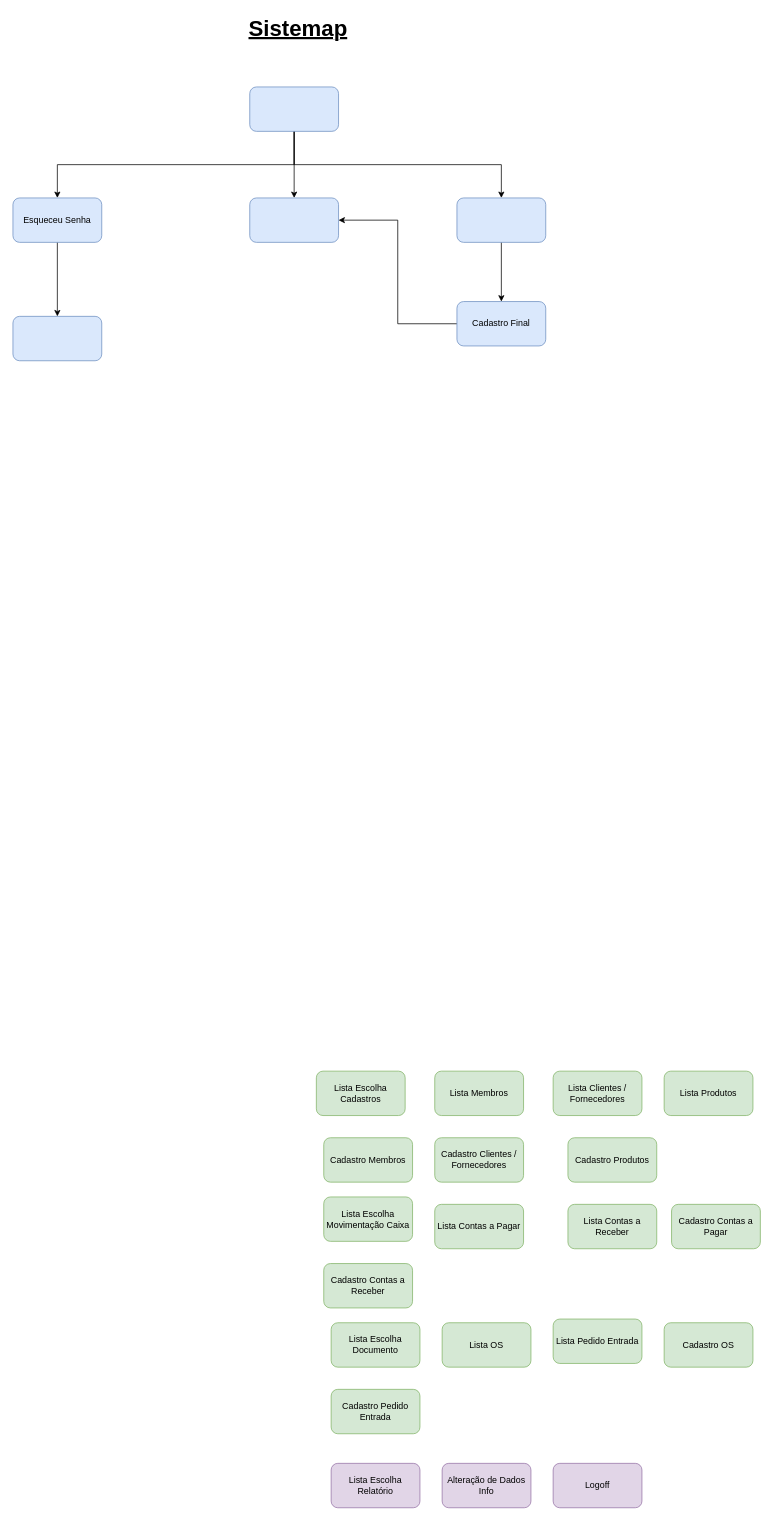
The diagram is 773 pixels wide and 1521 high, and some of its shapes have lost their labels. Each missing label, with the centre of its shape:
"Alteração Senha" goes at [57,338].
"Cadastro Inicial" goes at [501,219].
"Index" goes at [294,108].
"Painel" goes at [294,219].
